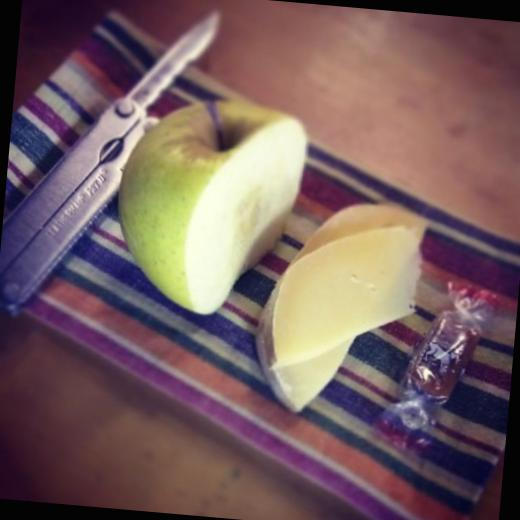Apple: (104, 85, 308, 337)
